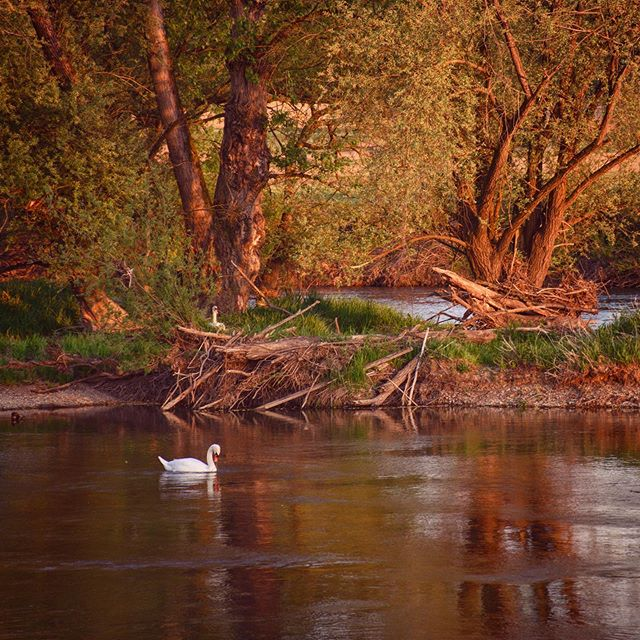animal: (155, 443, 226, 482)
river: (5, 412, 640, 640)
vegetation: (1, 1, 621, 402)
